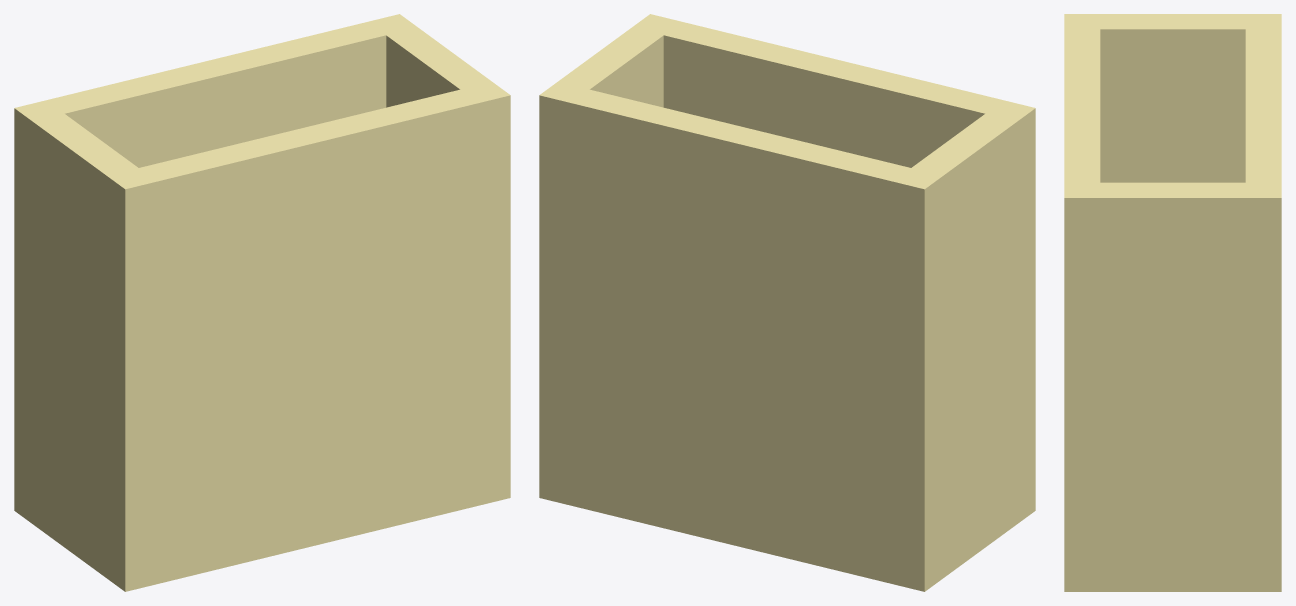
The model's file is Chimney_End.fbx.
3 views of the same model, side by side, from view 1: azimuth 30°, elevation 25°; view 2: azimuth 150°, elevation 25°; view 3: azimuth 270°, elevation 25° (orthographic). The views are drawn at different scales.
Parts seen in each view (by area): view 1: Chimney_End; view 2: Chimney_End; view 3: Chimney_End.
Part boxes in pixels (left/top/right/bottom): Chimney_End: left=14, top=14, right=510, bottom=591; Chimney_End: left=539, top=14, right=1035, bottom=591; Chimney_End: left=1064, top=14, right=1281, bottom=591.
Bounding box in the file's own units: 100 × 100 × 50.
